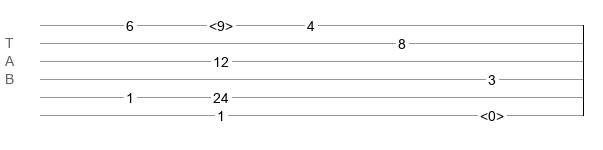1: (126, 90, 134, 100), (217, 108, 225, 118)
12: (213, 54, 229, 64)
24: (213, 90, 229, 100)
3: (488, 72, 496, 82)
4: (307, 18, 315, 28)
6: (126, 18, 134, 28)
8: (398, 36, 406, 46)
harmonic: (209, 18, 233, 28), (480, 108, 504, 118)
